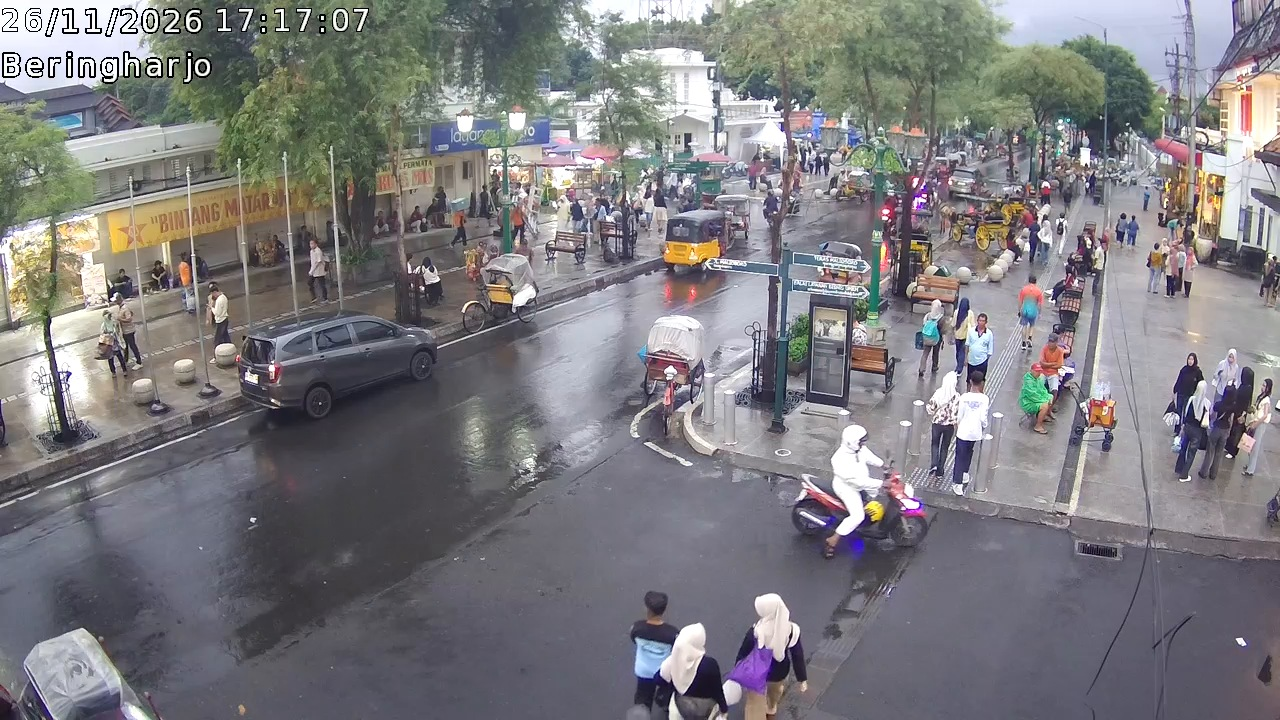Gerobak: (460, 251, 539, 330)
